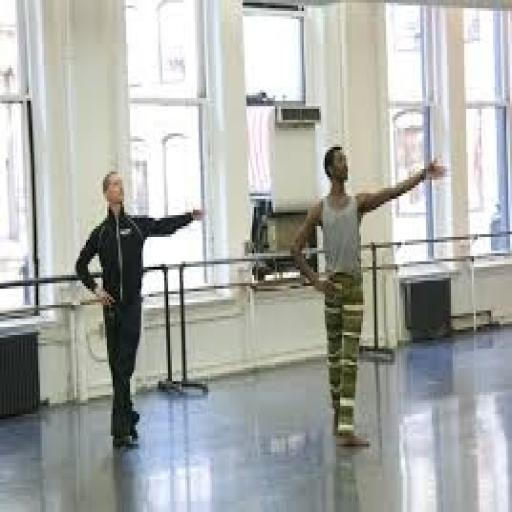dancing: (288, 142, 449, 452), (73, 169, 208, 455)
